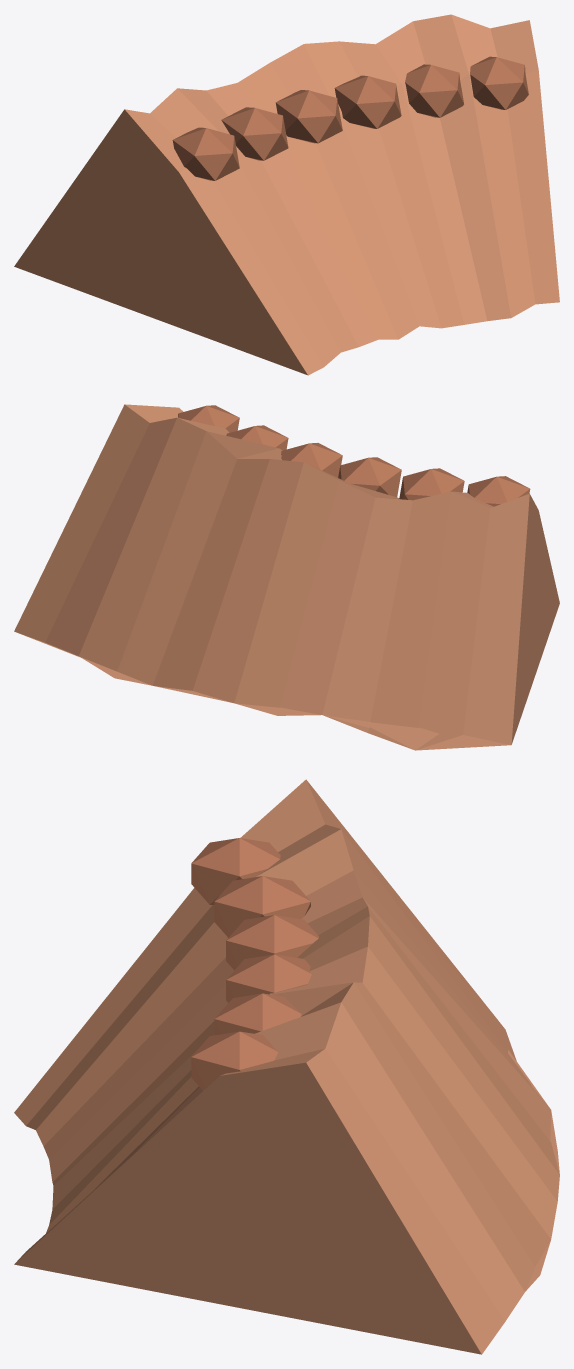
Rendered from Crater_Rim_03.glb.
3 views of the same model, one above another, from view 1: azimuth 30°, elevation 25°; view 2: azimuth 150°, elevation 25°; view 3: azimuth 270°, elevation 25° (orthographic). The views are drawn at different scales.
Visible parts, largest first — view 1: Layered crater ridge.002, Ridge scree.015, Ridge scree.014, Ridge scree.012, Ridge scree.013, Ridge scree.017, Ridge scree.016; view 2: Layered crater ridge.002, Ridge scree.014, Ridge scree.013, Ridge scree.012, Ridge scree.015, Ridge scree.017, Ridge scree.016; view 3: Layered crater ridge.002, Ridge scree.013, Ridge scree.012, Ridge scree.014, Ridge scree.017, Ridge scree.015, Ridge scree.016.
Part boxes in pixels (x1,y1,x2,y2): Layered crater ridge.002: (14,14,559,375); Ridge scree.015: (334,75,401,128); Ridge scree.014: (275,90,342,143); Ridge scree.012: (172,127,239,180); Ridge scree.013: (221,107,288,160); Ridge scree.017: (470,56,528,109); Ridge scree.016: (405,64,463,117); Layered crater ridge.002: (14,404,559,750); Ridge scree.014: (338,457,401,497); Ridge scree.013: (399,468,464,500); Ridge scree.012: (467,476,530,506); Ridge scree.015: (281,443,342,477); Ridge scree.017: (178,405,239,432); Ridge scree.016: (226,425,288,450); Layered crater ridge.002: (14,779,559,1354); Ridge scree.013: (214,876,310,937); Ridge scree.012: (191,838,280,905); Ridge scree.014: (226,915,318,970); Ridge scree.017: (191,1031,278,1090); Ridge scree.015: (226,954,311,1002); Ridge scree.016: (214,993,301,1035).
Size of the model in its own units: 3.18 by 1.28 by 2.21.
